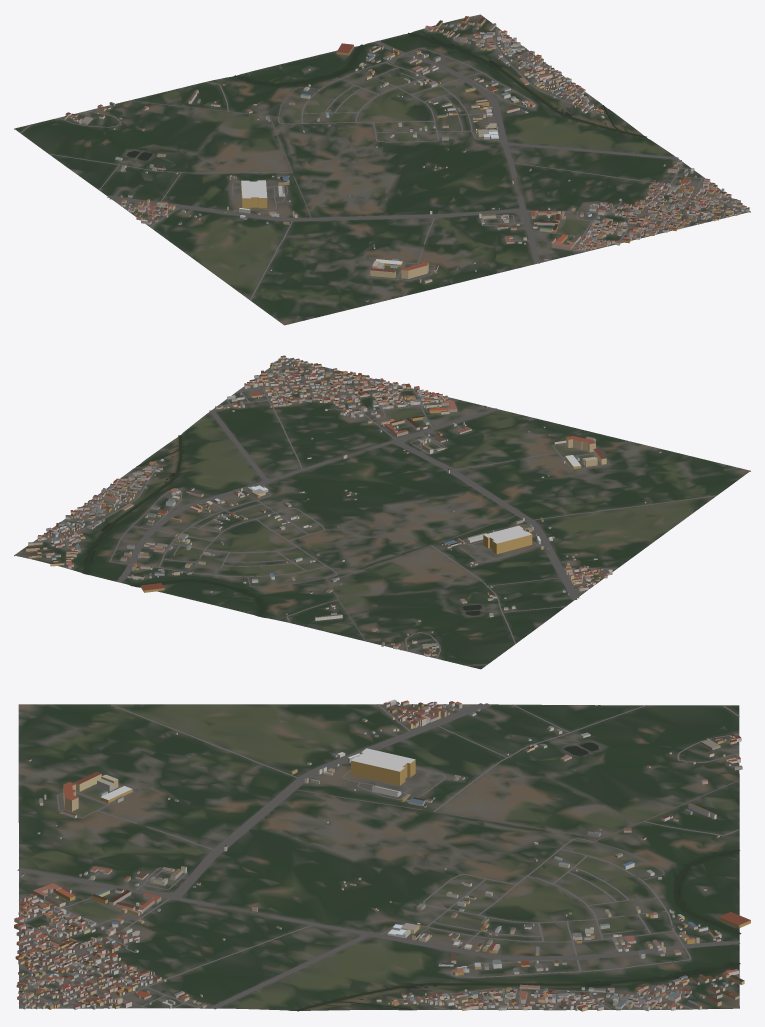
3 views of the same model, one above another, from view 1: azimuth 30°, elevation 25°; view 2: azimuth 150°, elevation 25°; view 3: azimuth 270°, elevation 25° (orthographic). The views are drawn at different scales.
Visible parts, largest first — view 1: ground, buildings, roads, water; view 2: ground, buildings, roads, water; view 3: ground, buildings, roads, water.
Boxes of the visible parts, x1,y1,x2,y2 form: ground: (14,14,750,325); buildings: (64,16,749,301); roads: (20,26,742,300); water: (127,32,646,160); ground: (14,358,750,669); buildings: (25,355,661,656); roads: (42,359,716,665); water: (83,435,481,616); ground: (18,704,739,1010); buildings: (14,699,750,1011); roads: (17,703,739,1010); water: (296,742,741,1011).
Size of the model in its own units: 1412 by 39.27 by 1433.
